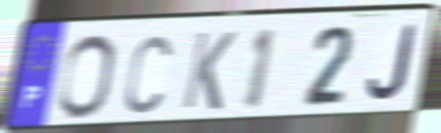1: (245, 24, 278, 114)
2: (300, 23, 356, 108)
C: (122, 32, 174, 116)
J: (365, 23, 419, 103)
K: (179, 29, 239, 113)
O: (55, 32, 118, 122)
